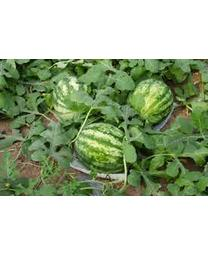watermelon: (75, 123, 132, 170), (129, 78, 175, 124)
